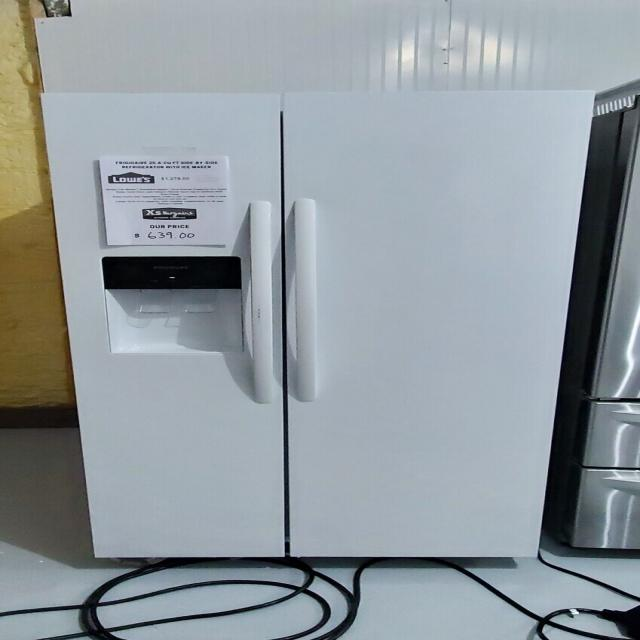refrigerator: (35, 90, 598, 560)
